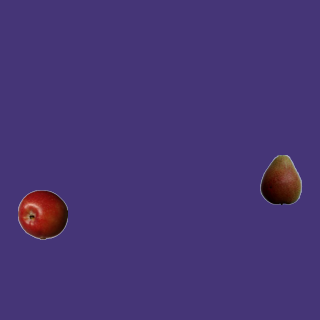Apple Braeburn: (17, 189, 67, 239)
Pear Forelle: (255, 154, 305, 204)
